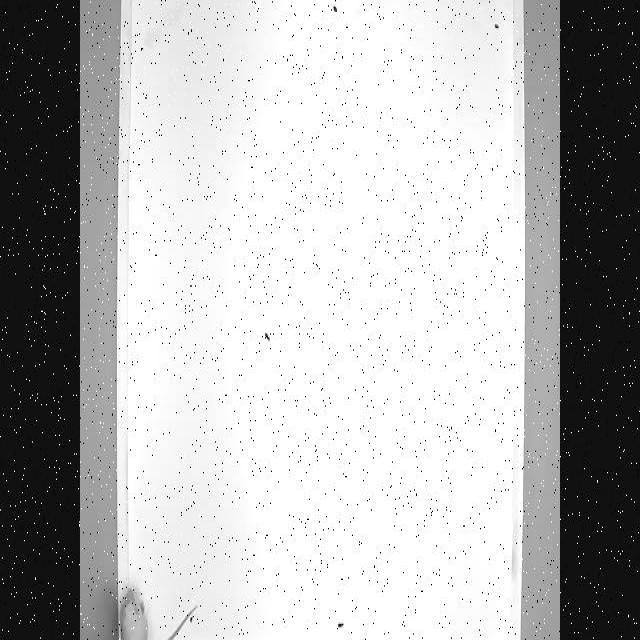rat: (114, 574, 200, 640)
